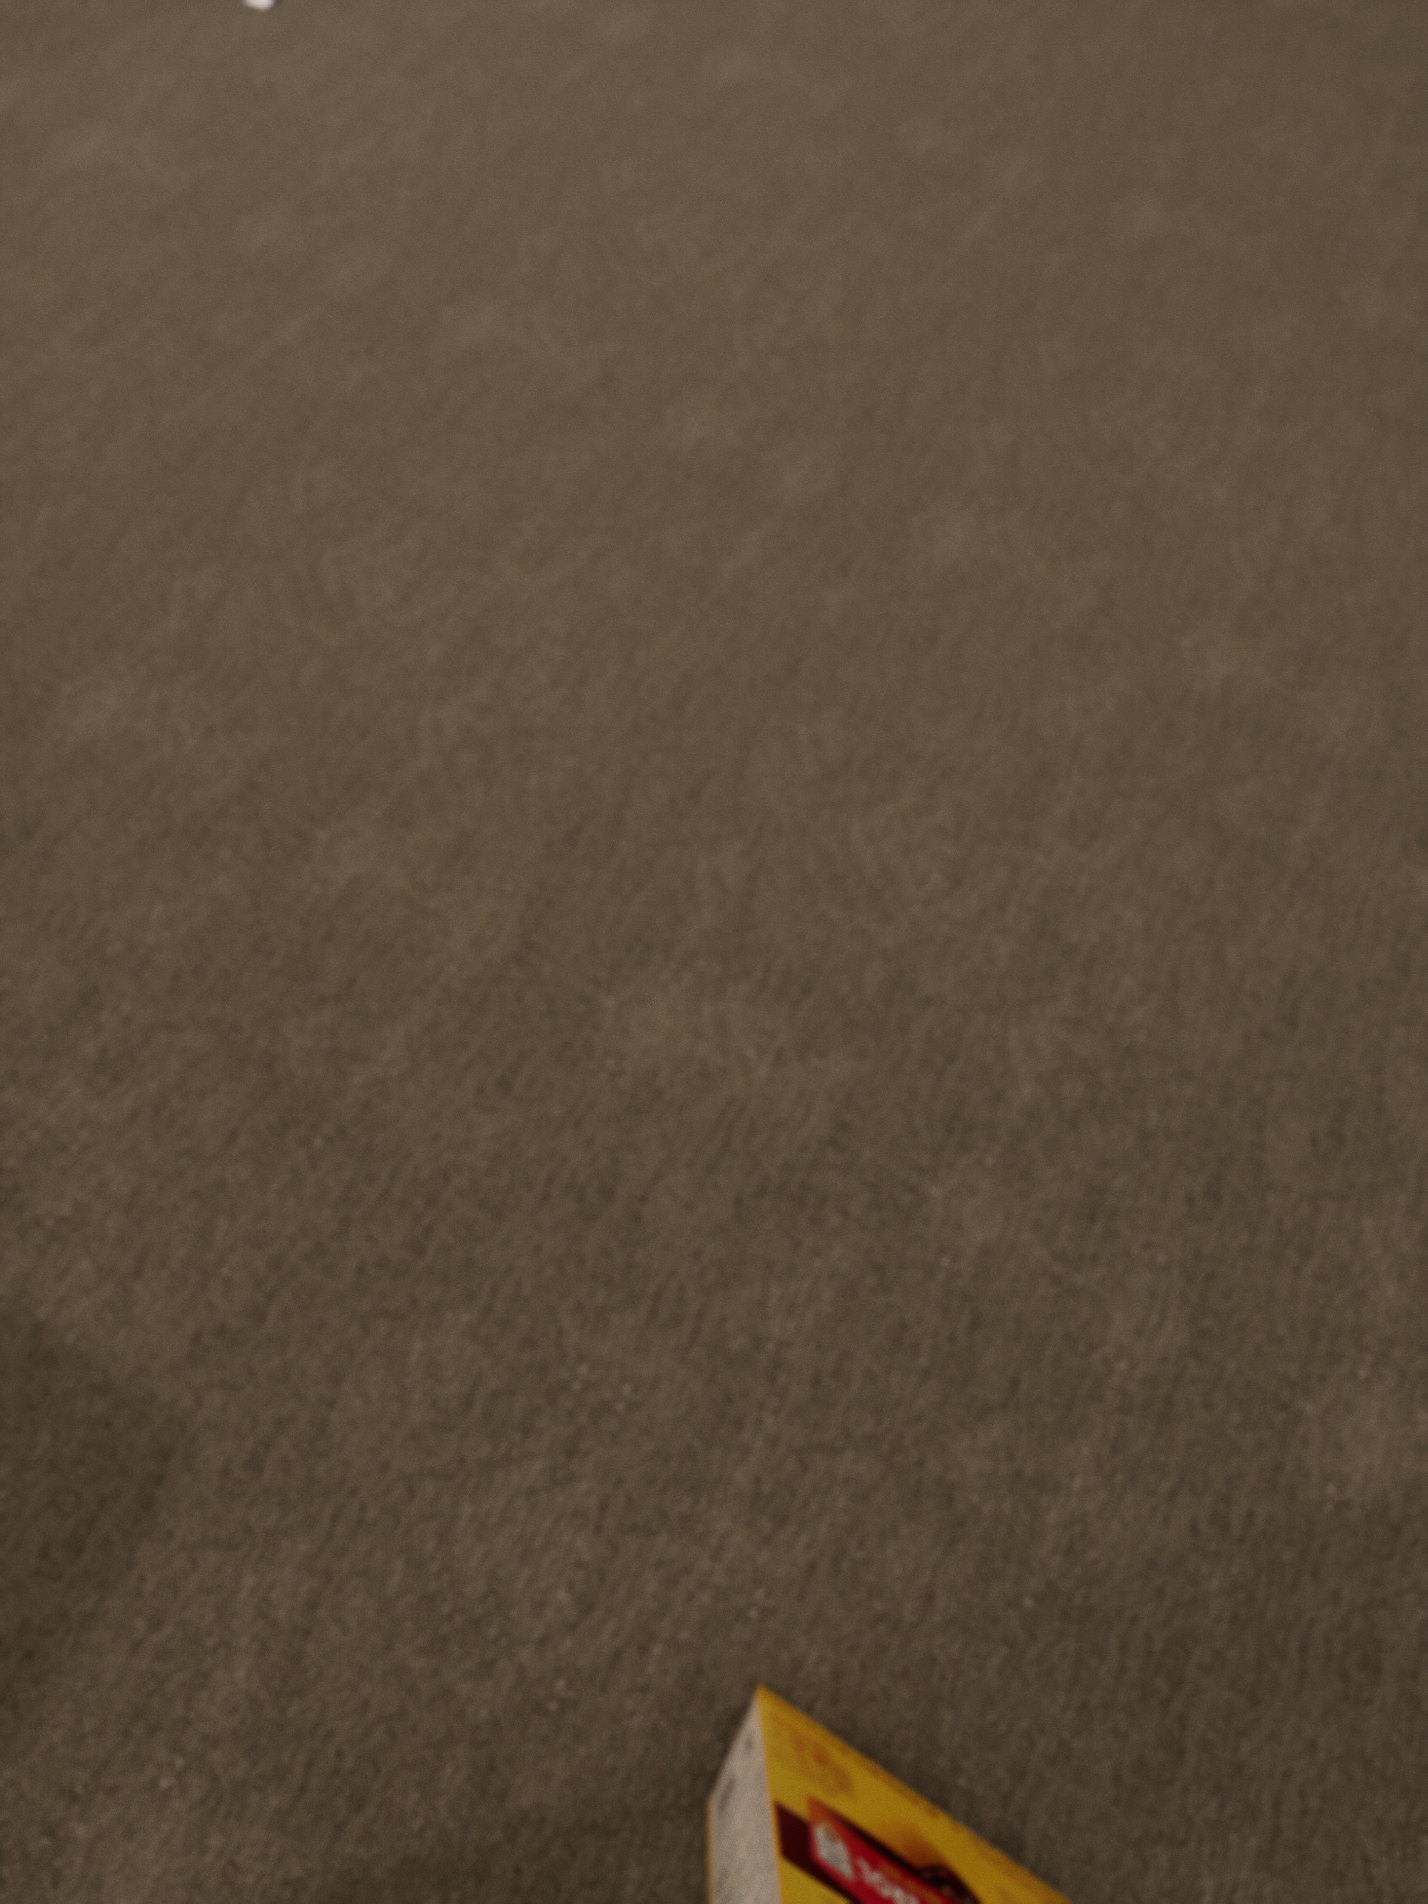cheerios: (706, 1685, 1072, 1904)
